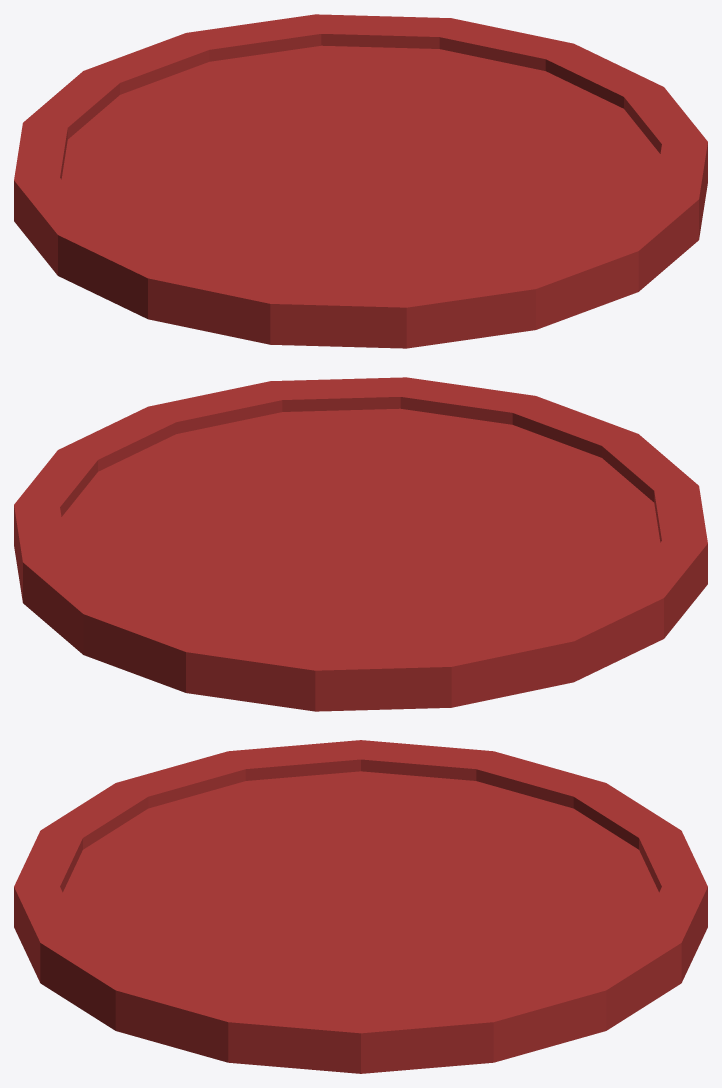
File: disk.fbx
The picture shows the model from 3 angles, top to bottom: view 1: azimuth 30°, elevation 25°; view 2: azimuth 150°, elevation 25°; view 3: azimuth 270°, elevation 25°; orthographic projection.
Parts seen in each view (by area): view 1: disk; view 2: disk; view 3: disk.
Part boxes in pixels (left/top/right/bottom): disk: left=14, top=14, right=707, bottom=348; disk: left=14, top=377, right=707, bottom=711; disk: left=14, top=740, right=707, bottom=1073.
Size of the model in its own units: 13.71 by 0.8845 by 13.71.
